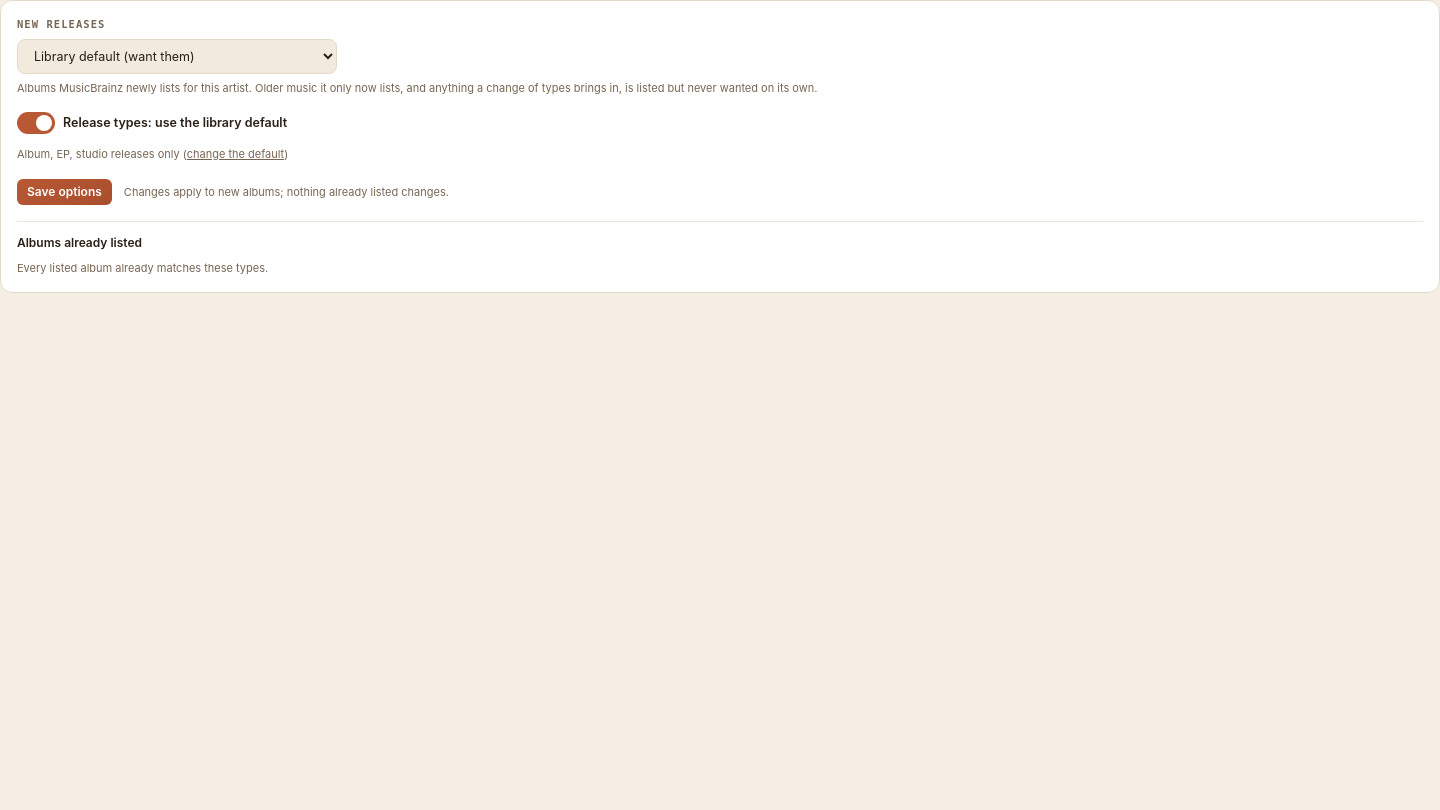
Artist options › saves the new-release choice and the artist's own release types
Expected: the button "Save options" is disabled, [17,179,112,205]
Step 1. Select "Just list them" in the dropdown labelled "New releases" → (177, 56), box [17,39,337,74]
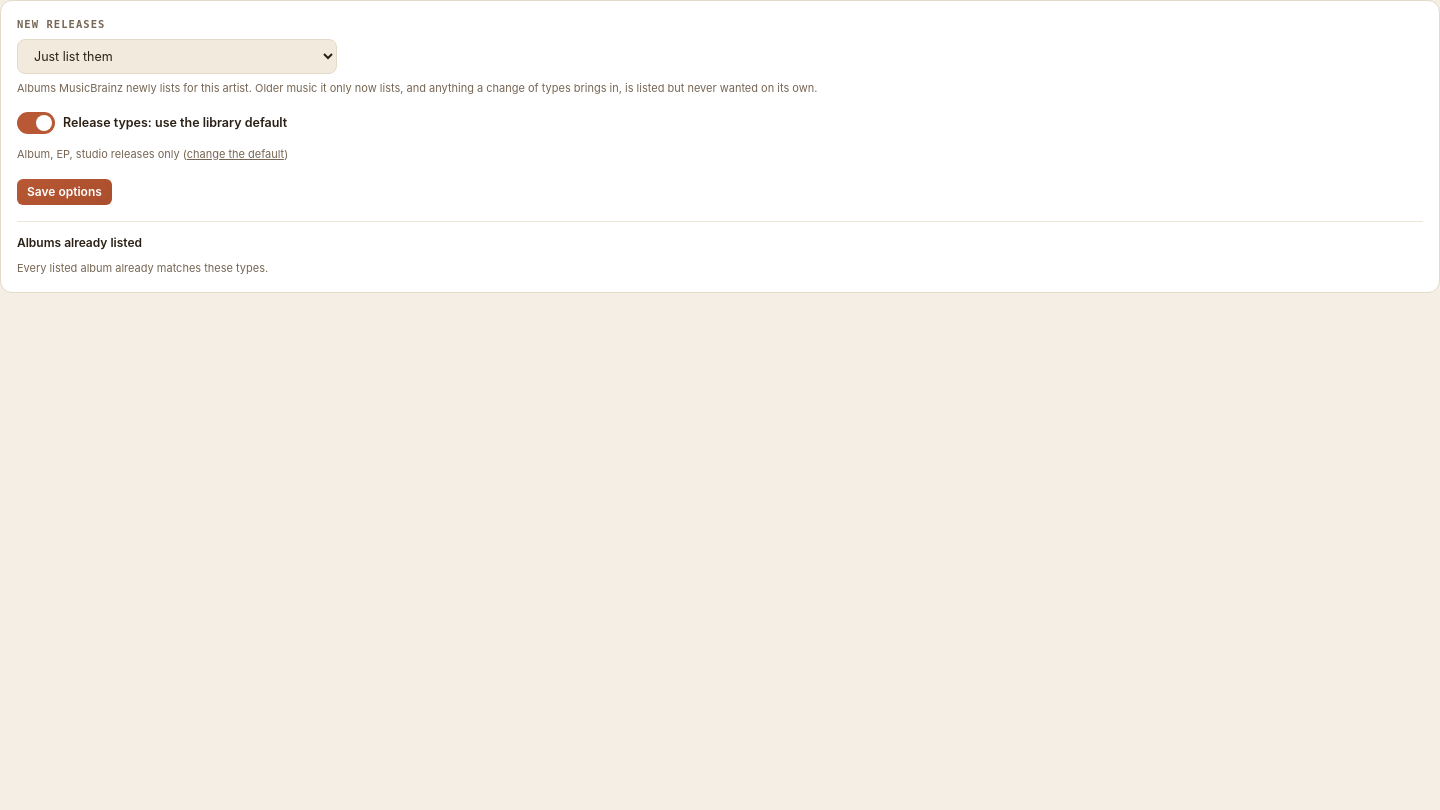
Step 2. Click the switch labelled "Release types: use the library default" → (36, 123), box [17,112,1423,134]
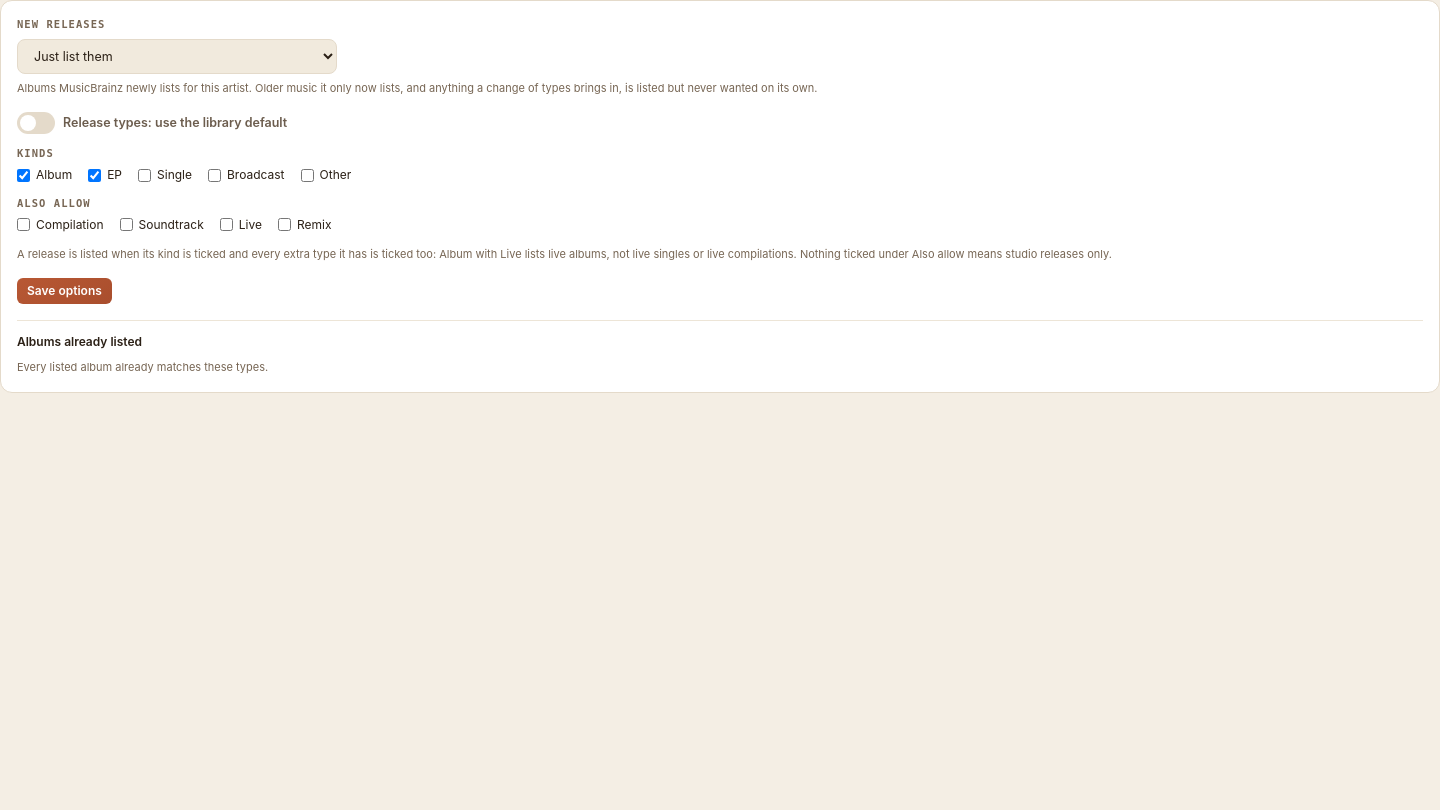
Step 3. Click the checkbox labelled "Live" → (226, 225), box [220,218,233,231]
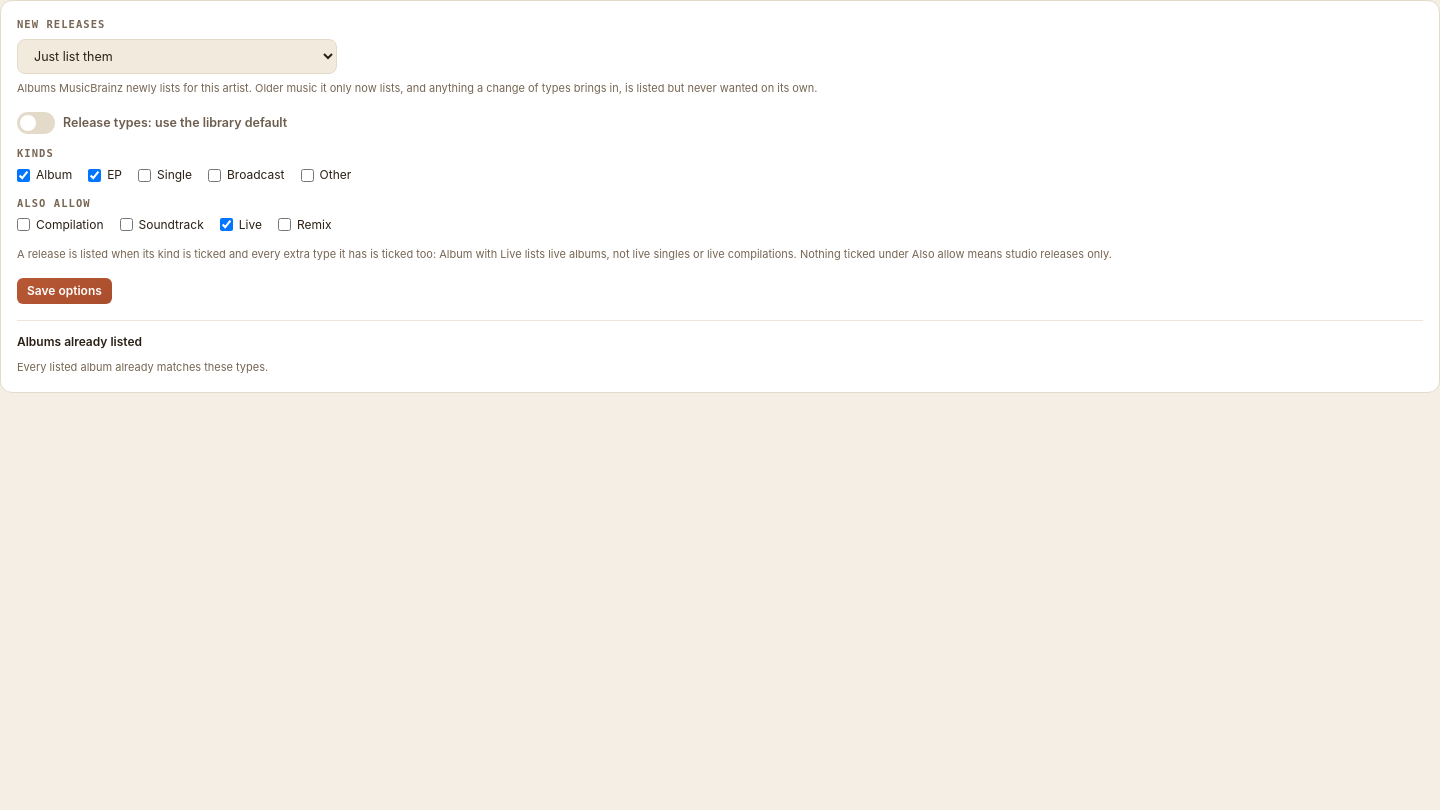
Step 4. Click the button "Save options" → (64, 291), box [17,278,112,304]
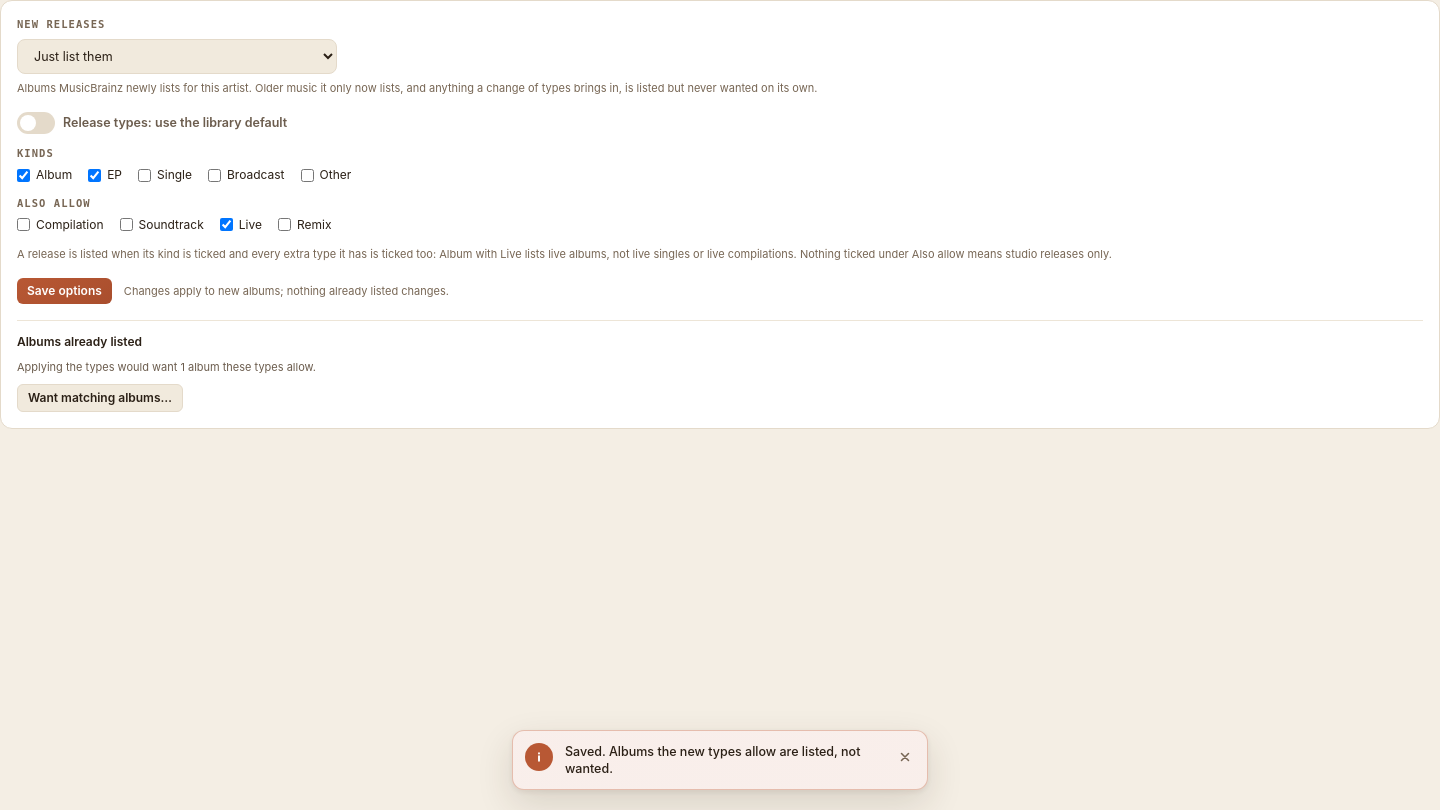
Result: the text "Applying the types would want 1 album these types allow." is shown at [17,360,316,374]
